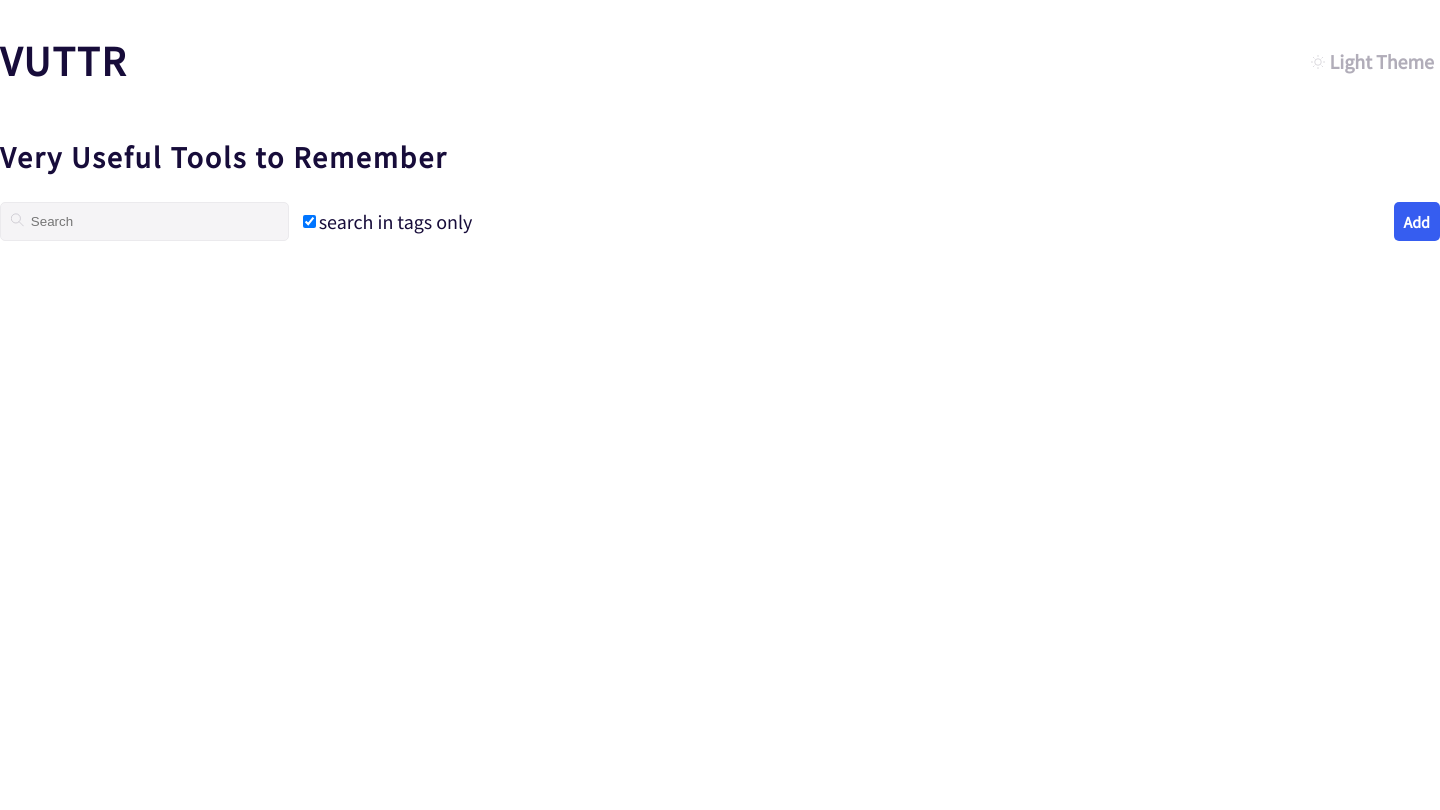
Test: <Header /> › Closes modal on ouside click
Click the button "Add" at (1417, 222), box [1394, 202, 1439, 241]
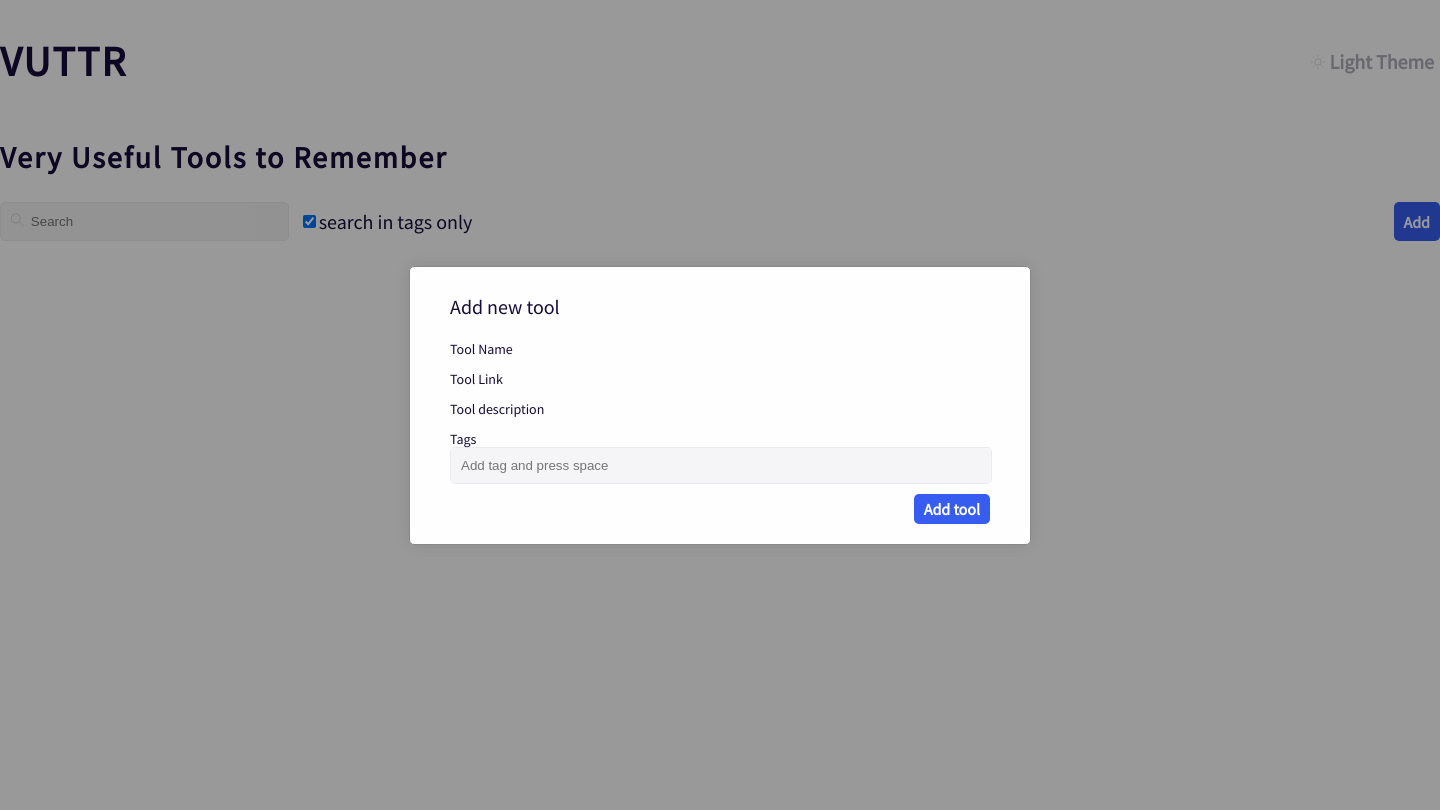
Click the element with test id "outside-modal" at (86, 405), box [0, 0, 1439, 809]
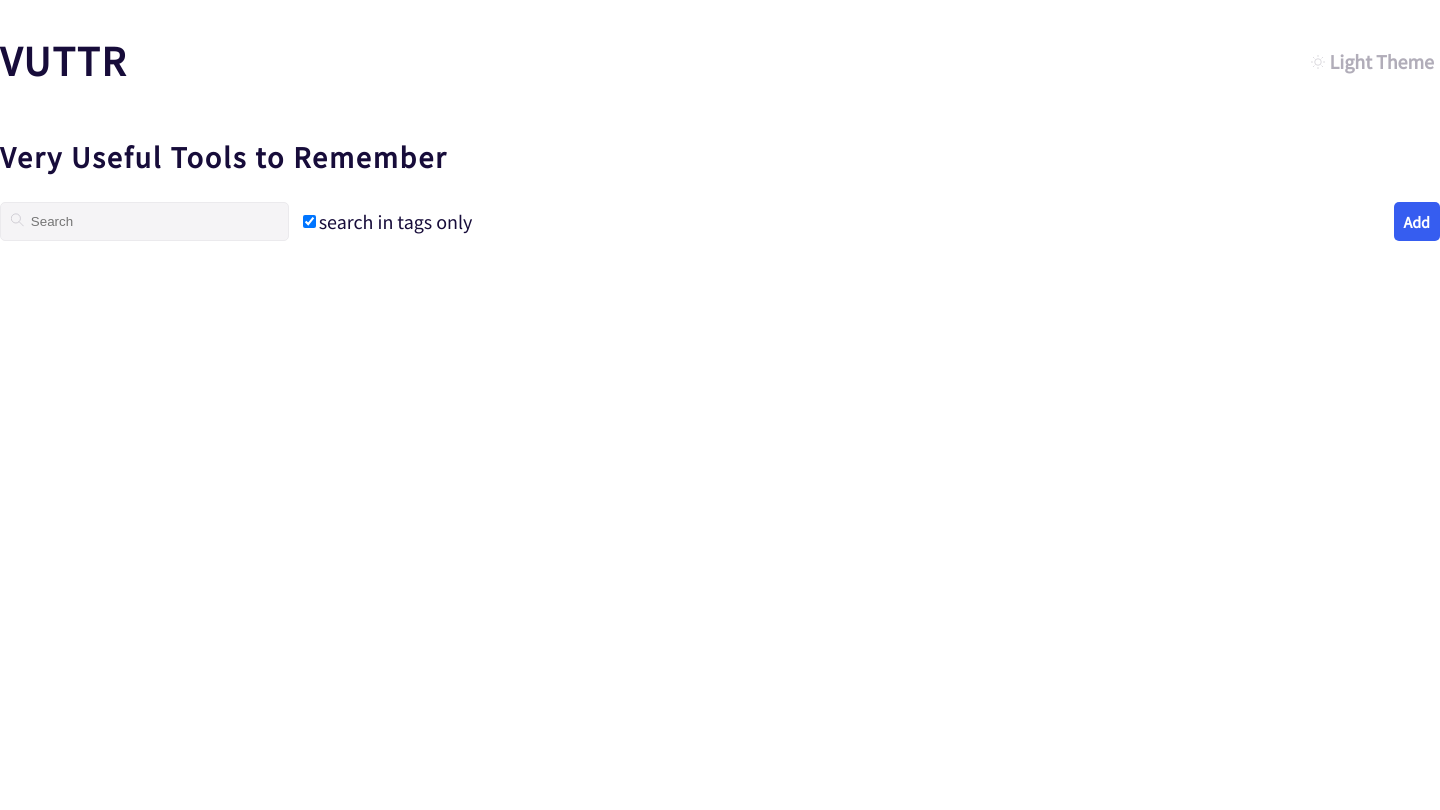
Check: the text "Add new tool" is gone
Check: the text "Tool Name" is gone
Check: the text "Tool Link" is gone
